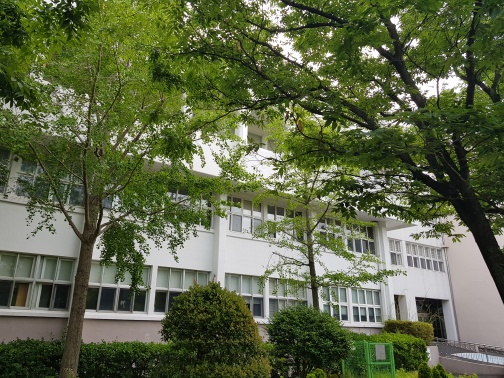Main Building of University: (31, 110, 477, 350)
